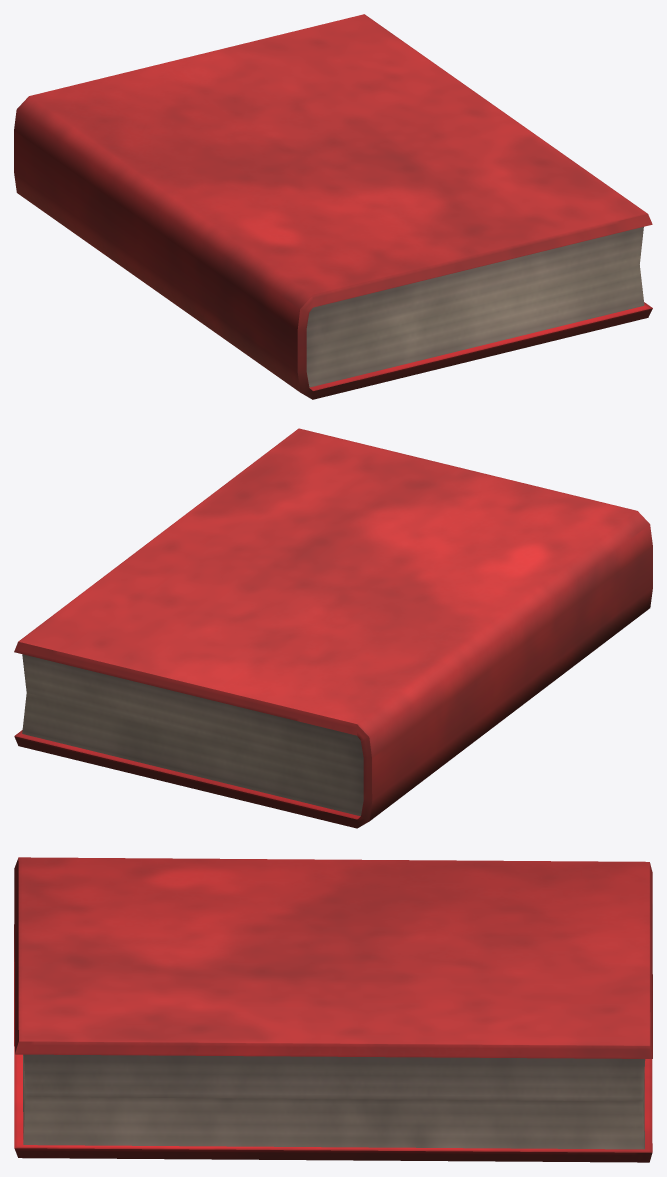
The model's file is SM_Book_03.fbx.
3 renders of one model, top to bottom at view 1: azimuth 30°, elevation 25°; view 2: azimuth 150°, elevation 25°; view 3: azimuth 270°, elevation 25°, orthographic. The views are drawn at different scales.
Parts seen in each view (by area): view 1: SM_Book_03_LOD0; view 2: SM_Book_03_LOD0; view 3: SM_Book_03_LOD0.
Boxes of the visible parts, bbox=[...] form: SM_Book_03_LOD0: bbox=[14, 14, 652, 399]; SM_Book_03_LOD0: bbox=[14, 428, 652, 828]; SM_Book_03_LOD0: bbox=[14, 857, 652, 1162].
Size of the model in its own units: 18.74 by 25.9 by 5.48.
1 material, 1 textured.
